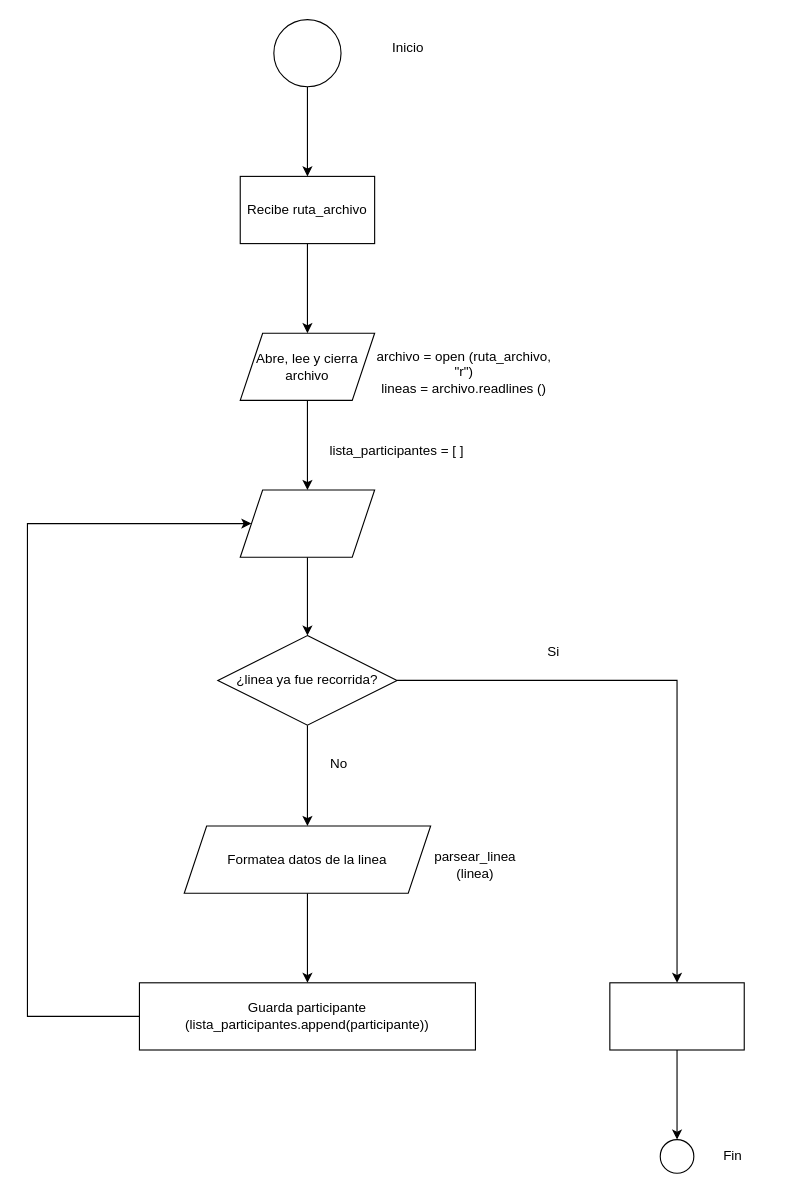
Some shapes in this 786 by 1193 pixel diagram are drawn without their labels. The shapes that lost their labels are listed below. From the top down, each one's box as (x1, y1, x2, y2) in pixels, then its label:
(239, 489, 375, 557): Recorre lineas del archivo
(609, 982, 744, 1050): Retorna lista_participantes
